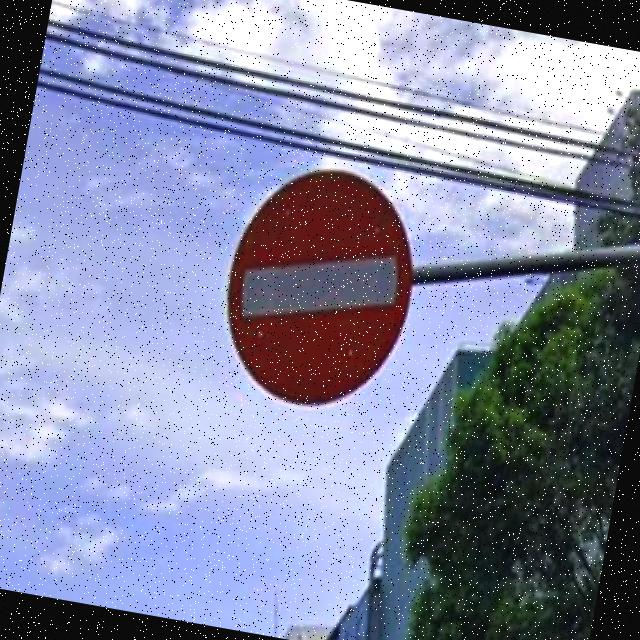Zakaz wjazdu: (212, 162, 424, 420)
